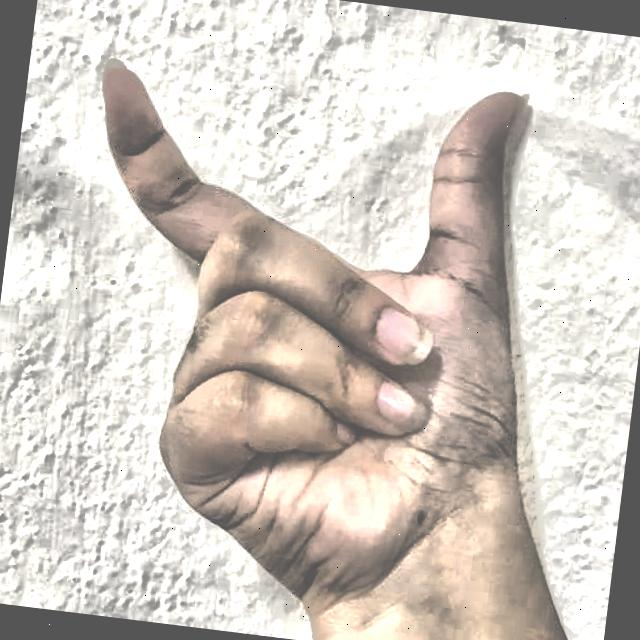ChandraBindu: (19, 2, 610, 639)
